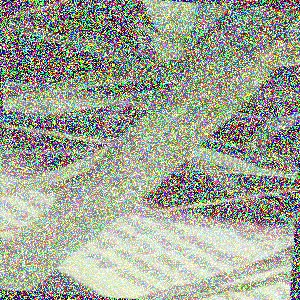Brown_Spot: (19, 179, 94, 254)
